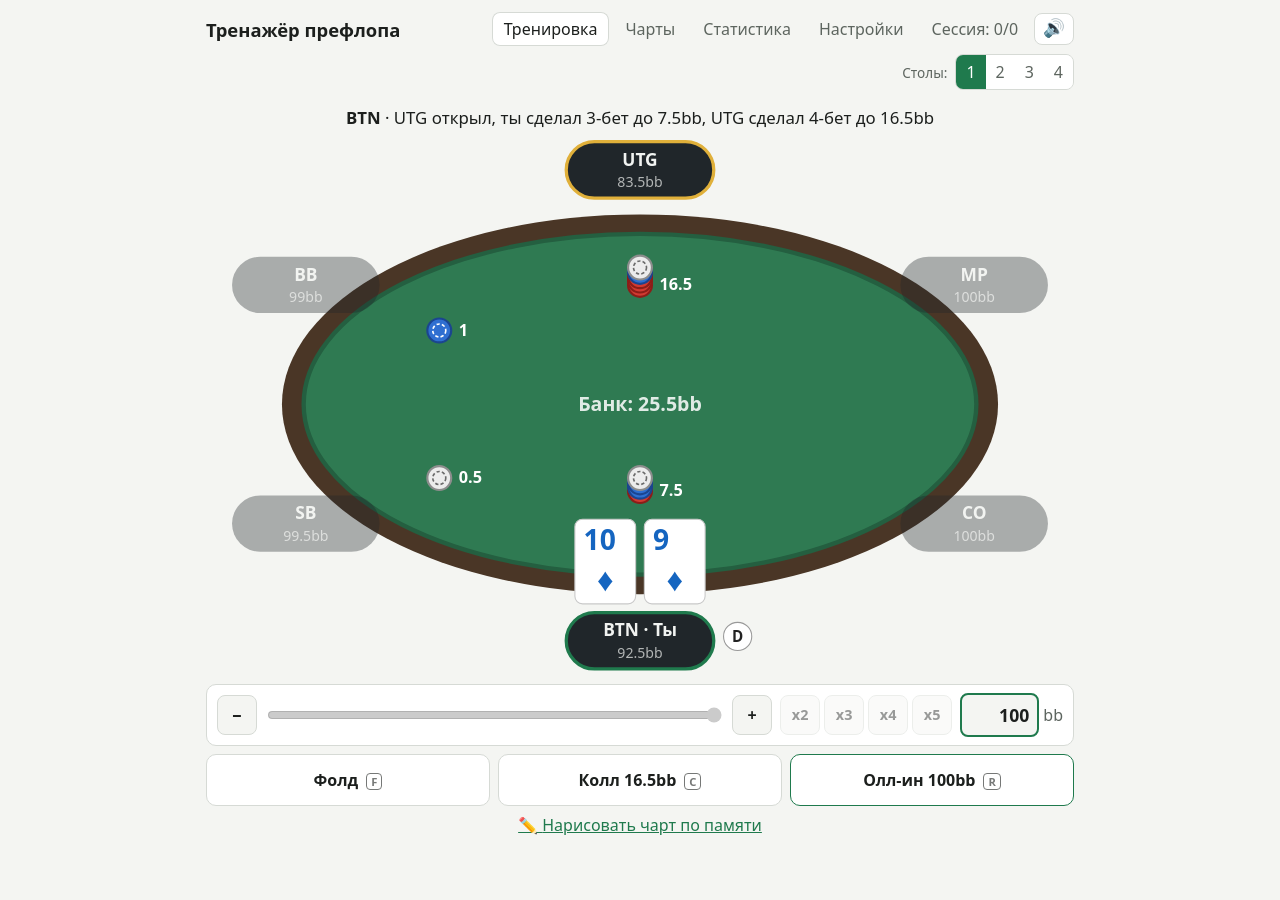
Test: App › marks a wrong answer and waits for Next
The image size is (1280, 900).
Click the button "Колл 16.5bbC" at (640, 780), box [498,754,782,806]
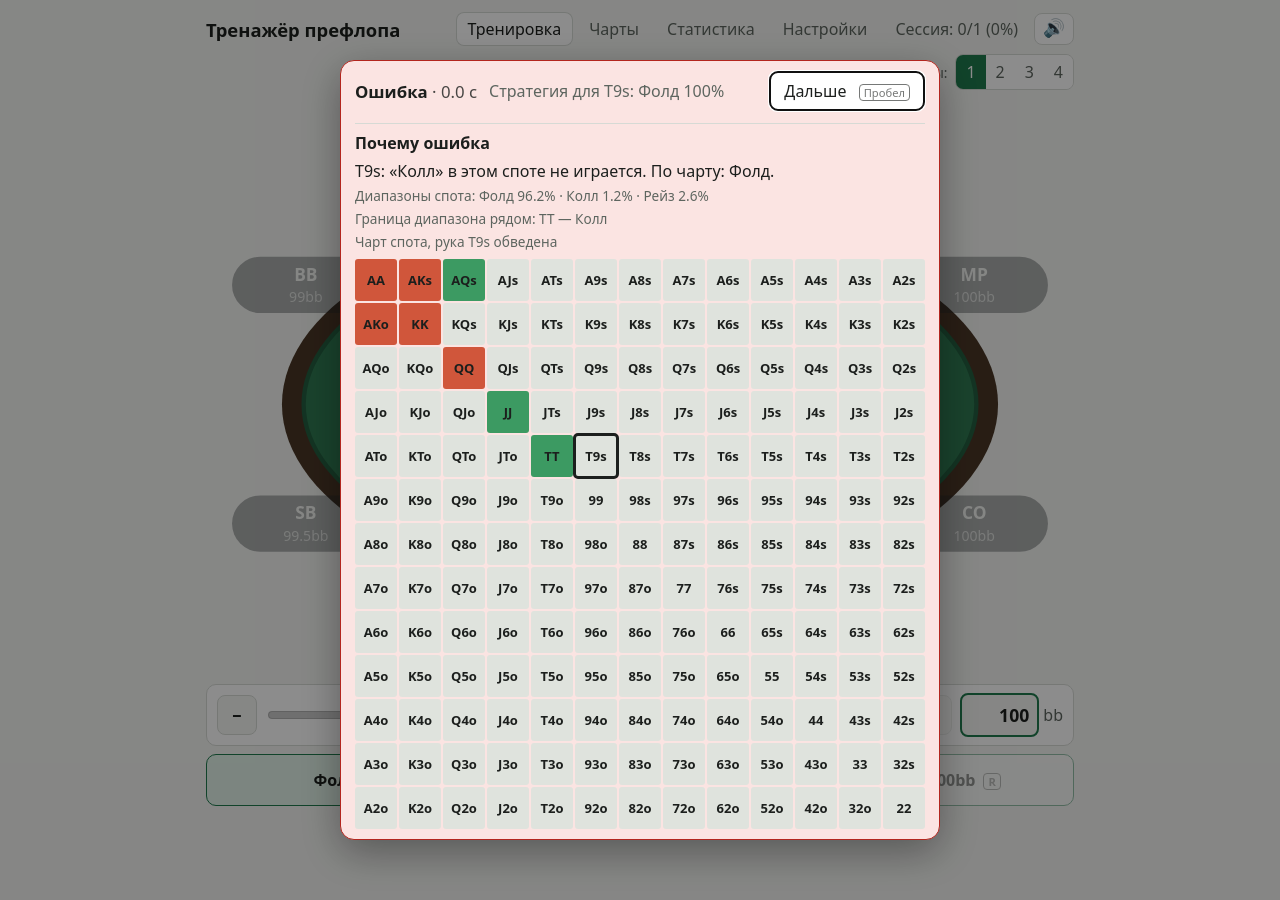
Expected: the message shows "Ошибка", [355,80,428,102]
Expected: the text with test id "score" shows "0/1", [895,18,982,40]
Type keys " "
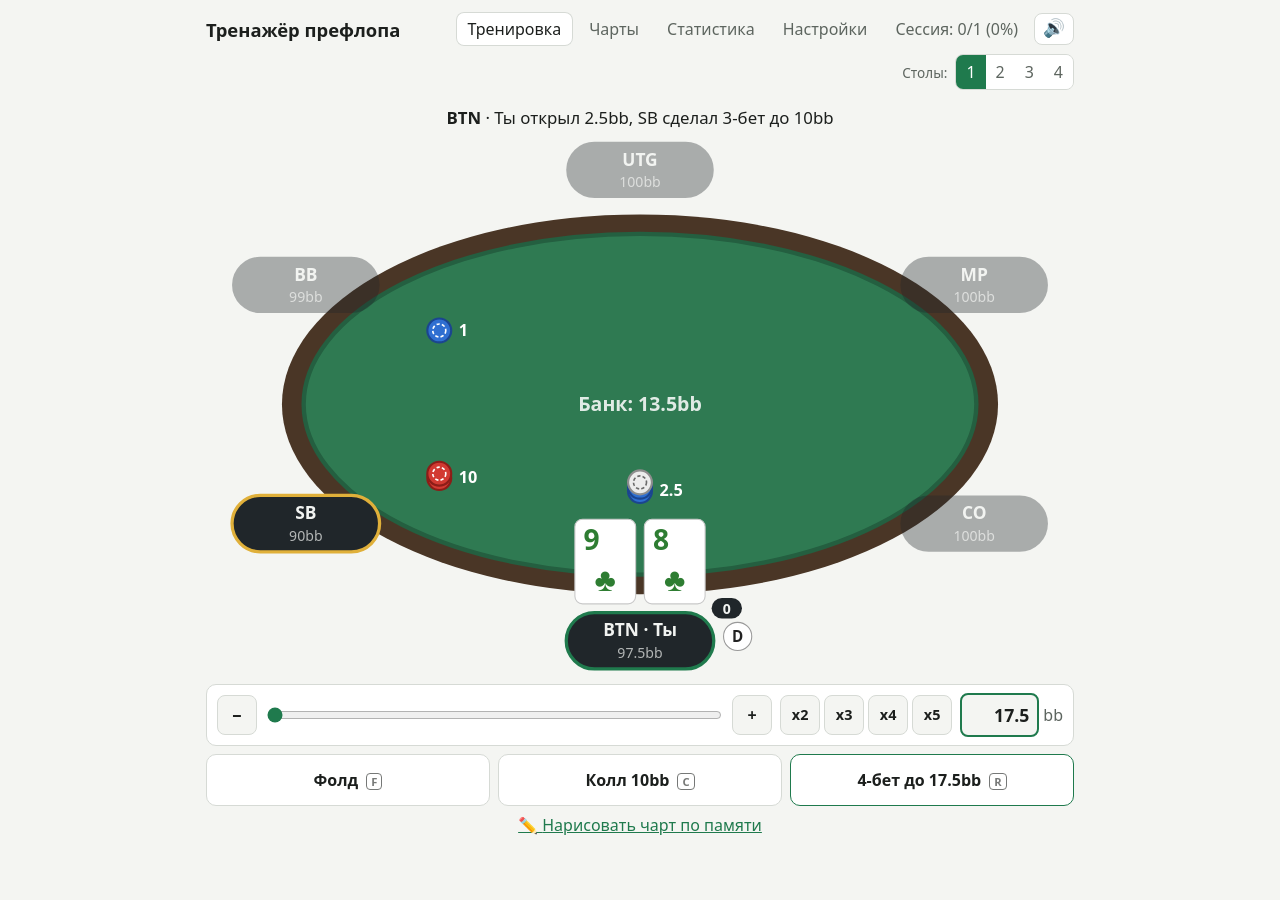
Expected: the message is gone
